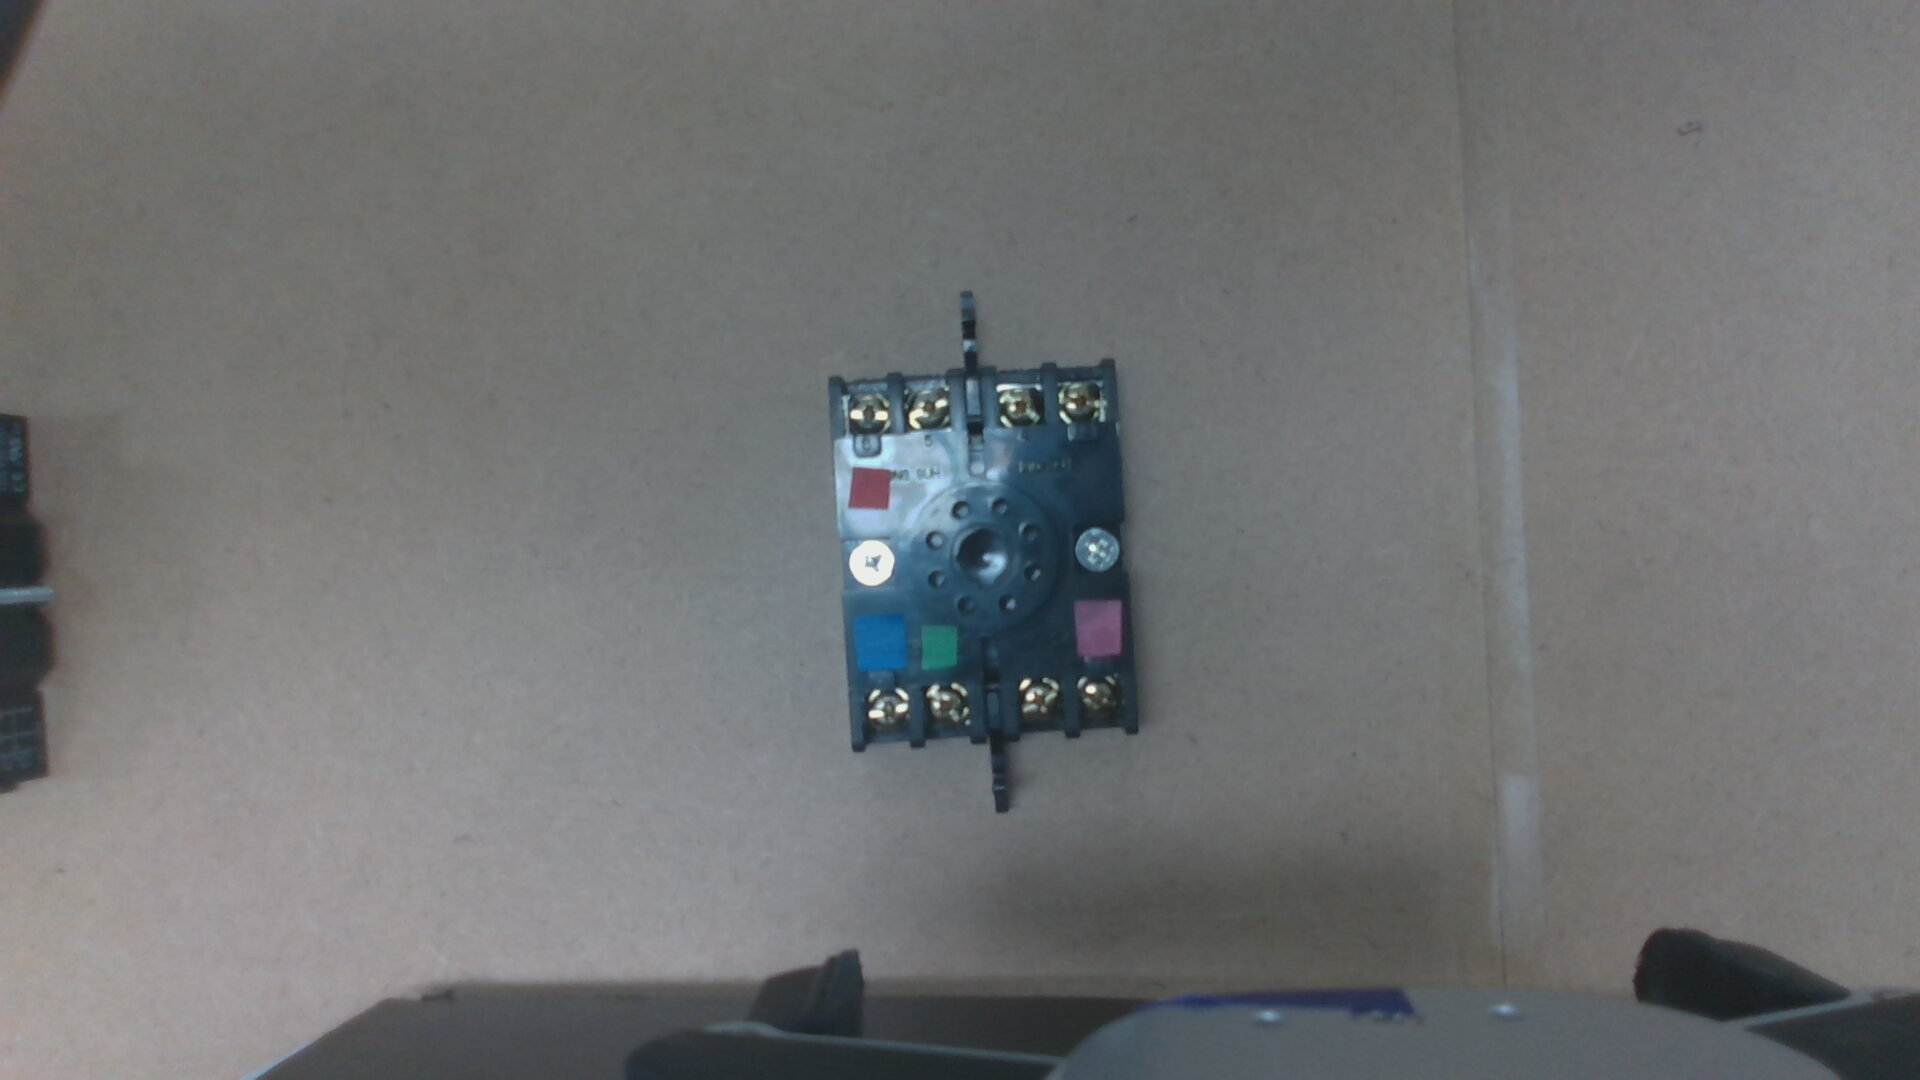timer 2: (1076, 676, 1117, 717)
timer 6: (845, 394, 889, 433)
timer 7: (864, 692, 909, 732)
timer 8: (923, 686, 968, 728)
